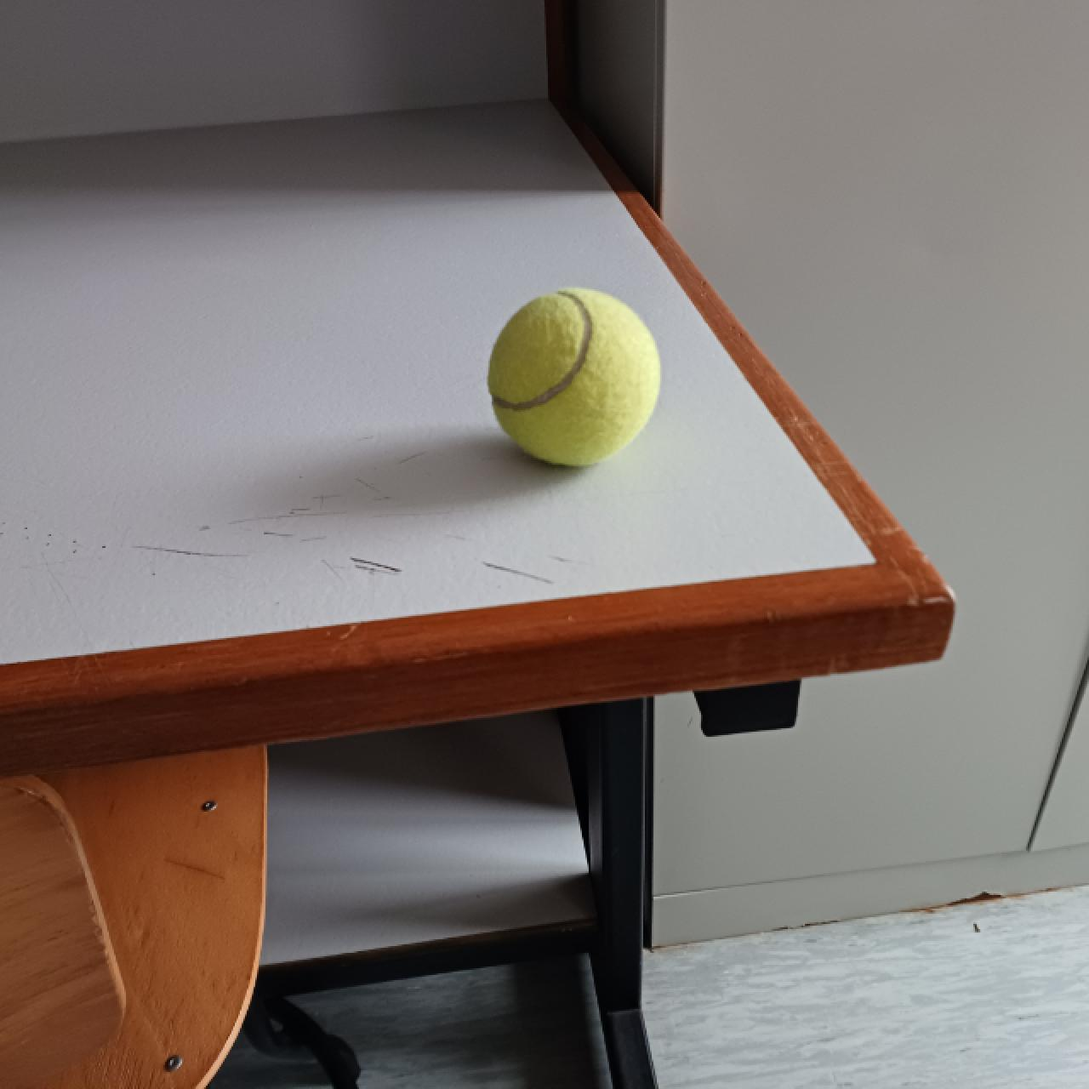tennis-ball: (483, 282, 663, 469)
